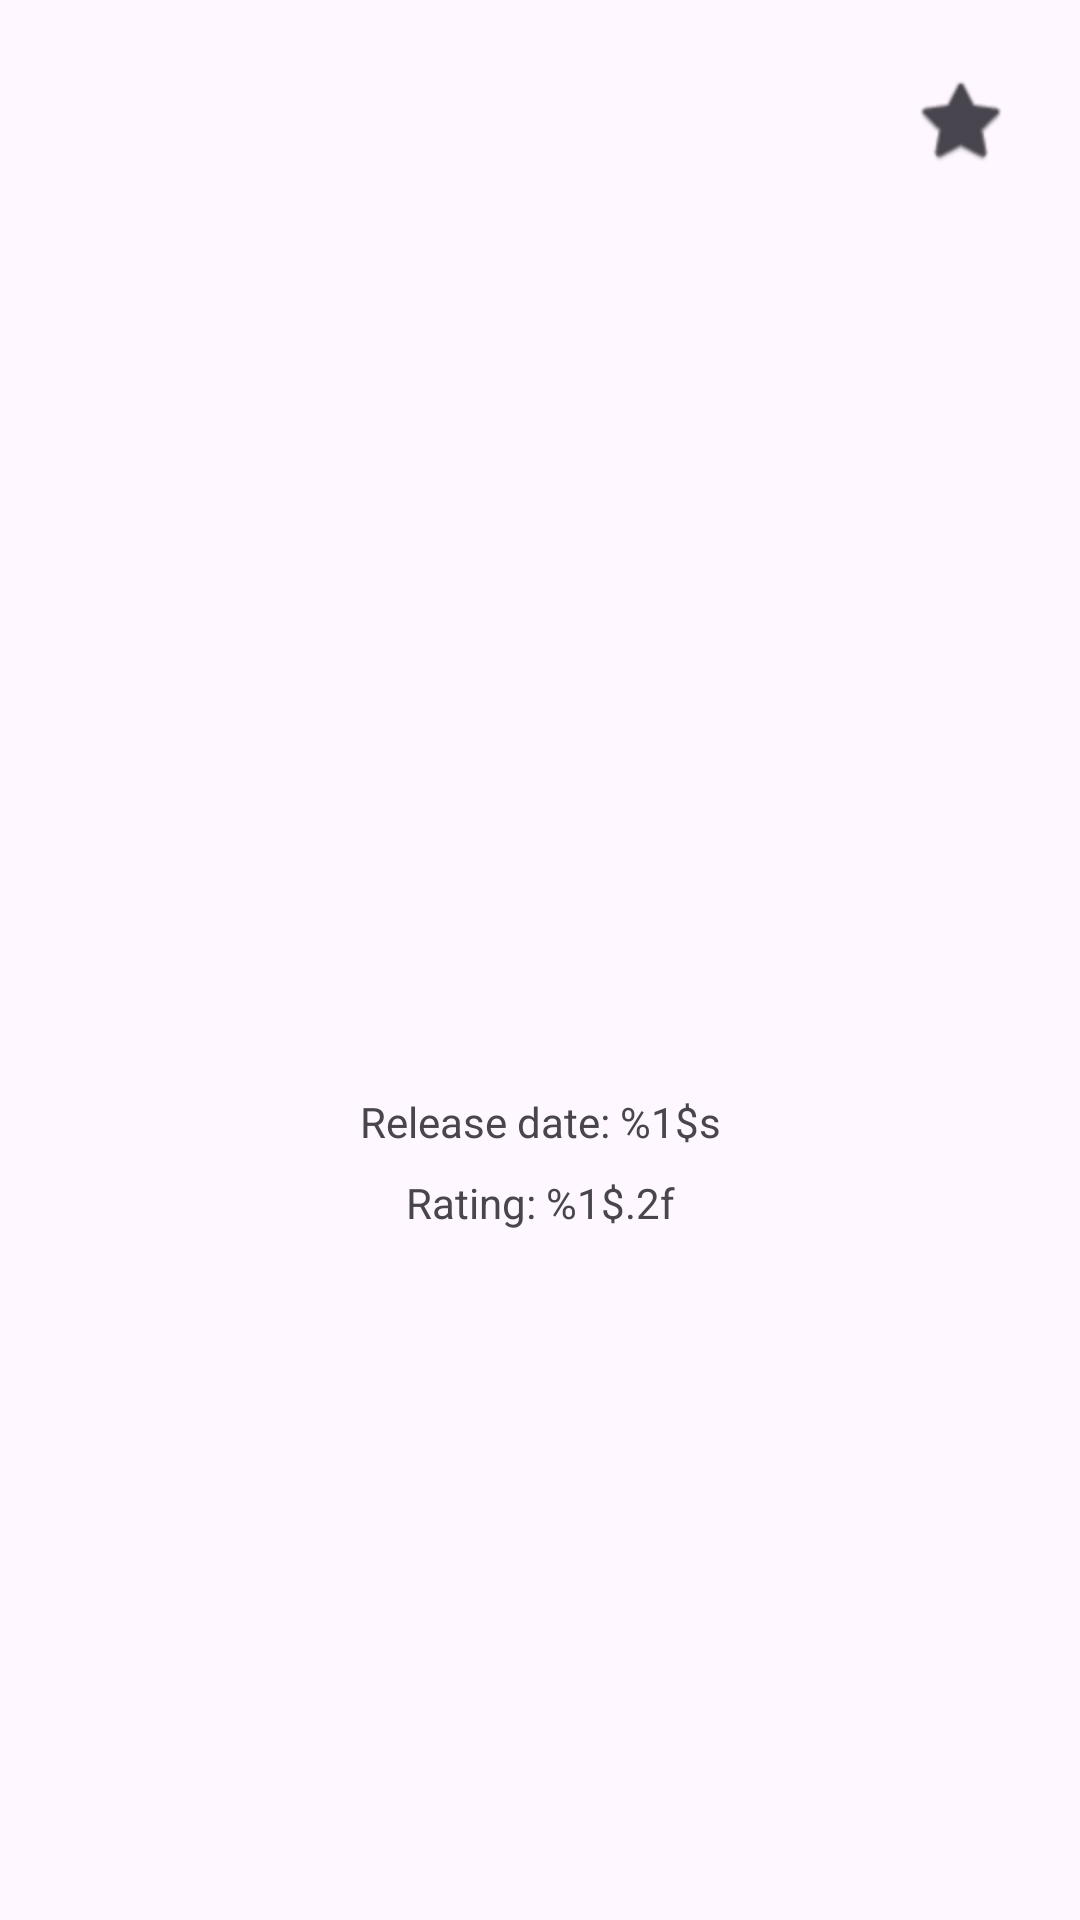

Named icons in this screenshot (1080x1920) and their centers, (x,y):
star: (961,120)
